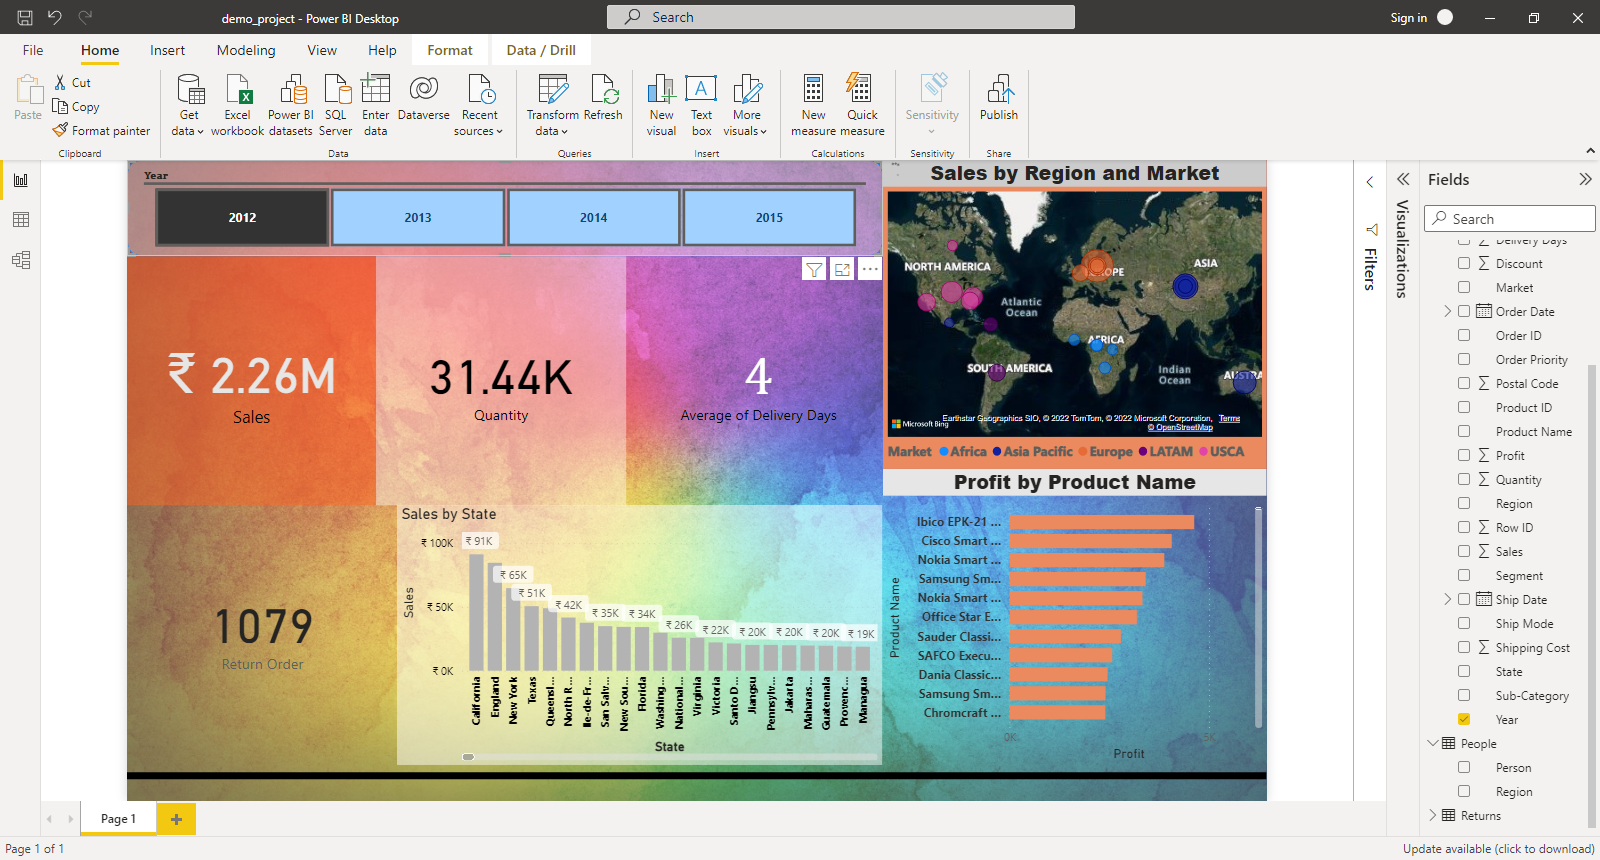

This screenshot's page, from the dashboard's own definition file:
{"tool":"powerbi","page":{"name":"Page 1","canvas":[1280,720],"ordinal":0},"visuals":[{"type":"card","fields":{"Values":["Avg(Orders.Delivery Days)"]},"box":[569.5,108,279.6,279.6],"z":0},{"type":"card","fields":{"Values":["Sum(Orders.Sales)"]},"box":[0,108,279.6,279.6],"z":1000},{"type":"card","fields":{"Values":["Sum(Orders.Quantity)"]},"box":[279.6,108,280.9,279.6],"z":2000},{"type":"shape","box":[0,680,1280,24.2],"z":3000},{"type":"slicer","fields":{"Values":["Orders.Year"]},"box":[0,0,849.1,108],"z":4000},{"type":"card","fields":{"Values":["Sum(Returns.Return Order)"]},"box":[0,387.7,303.8,279.6],"z":5000},{"type":"map","fields":{"Category":["Orders.Region"],"Size":["Sum(Orders.Sales)"],"Series":["Orders.Market"]},"box":[849.1,0,430.9,346.8],"z":6000},{"type":"barChart","fields":{"Category":["Orders.Product Name"],"Y":["Sum(Orders.Profit)"]},"box":[849.1,346.8,430.9,332.7],"z":7000},{"type":"lineClusteredColumnComboChart","fields":{"Category":["Orders.State"],"Y":["Sum(Orders.Sales)"]},"box":[303.8,387.7,545.3,292.4],"z":7001}]}

Visuals, with their boxes on the page's 1280x720 design canvas (x1, y1, x2, y2). These are canvas units, not pixel positions in the 1600x860 screenshot, which may show the page scaled, cropped or inside an application window:
card - Avg(Orders.Delivery Days): rect(570, 108, 849, 388)
card - Sum(Orders.Sales): rect(0, 108, 280, 388)
card - Sum(Orders.Quantity): rect(280, 108, 560, 388)
shape: rect(0, 680, 1280, 704)
slicer - Orders.Year: rect(0, 0, 849, 108)
card - Sum(Returns.Return Order): rect(0, 388, 304, 667)
map - Orders.Region x Sum(Orders.Sales): rect(849, 0, 1280, 347)
barChart - Orders.Product Name x Sum(Orders.Profit): rect(849, 347, 1280, 680)
lineClusteredColumnComboChart - Orders.State x Sum(Orders.Sales): rect(304, 388, 849, 680)
